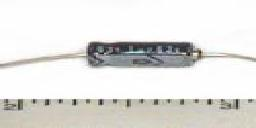Electrolytic-Capacitor: (68, 37, 230, 72)
